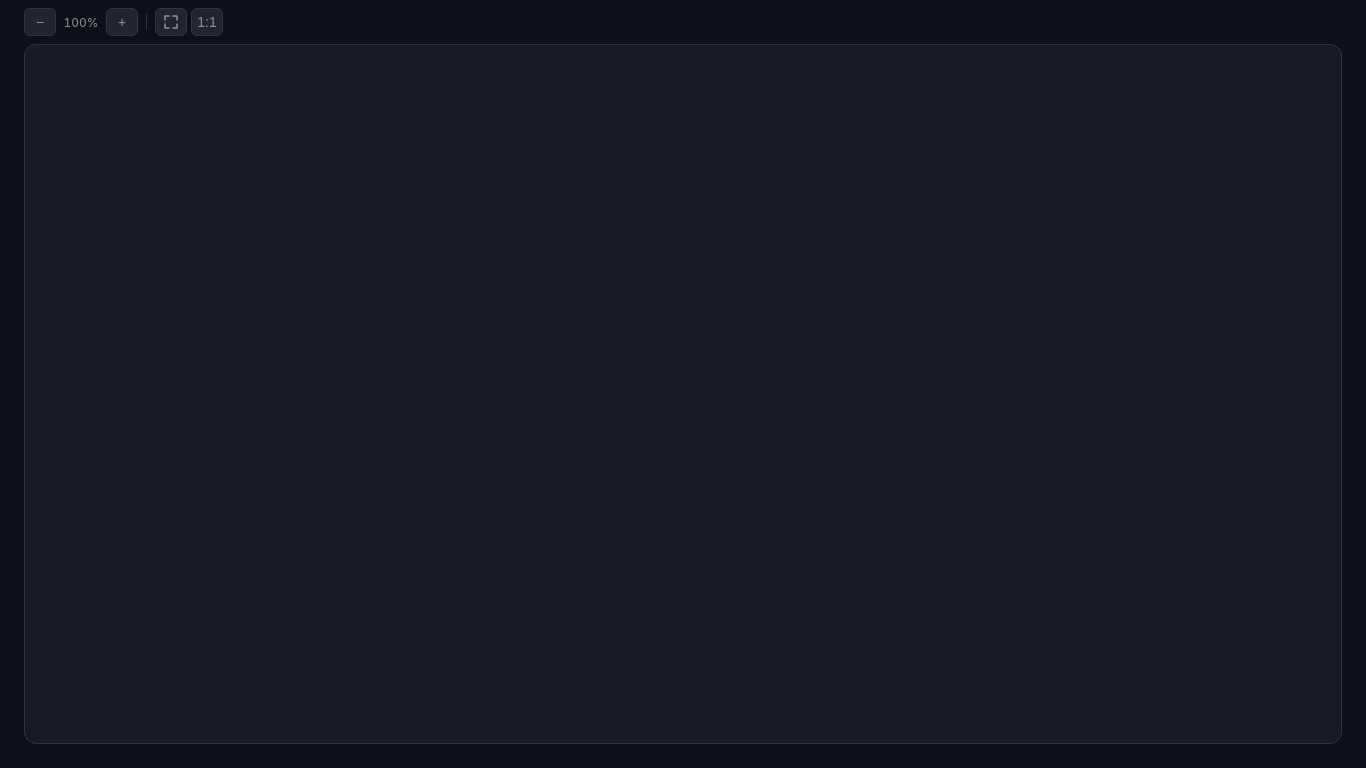
Scenario: Diagram › zoom out button decreases zoom level
Click the button titled "Zoom out": click(40, 22) [24,8,56,36]
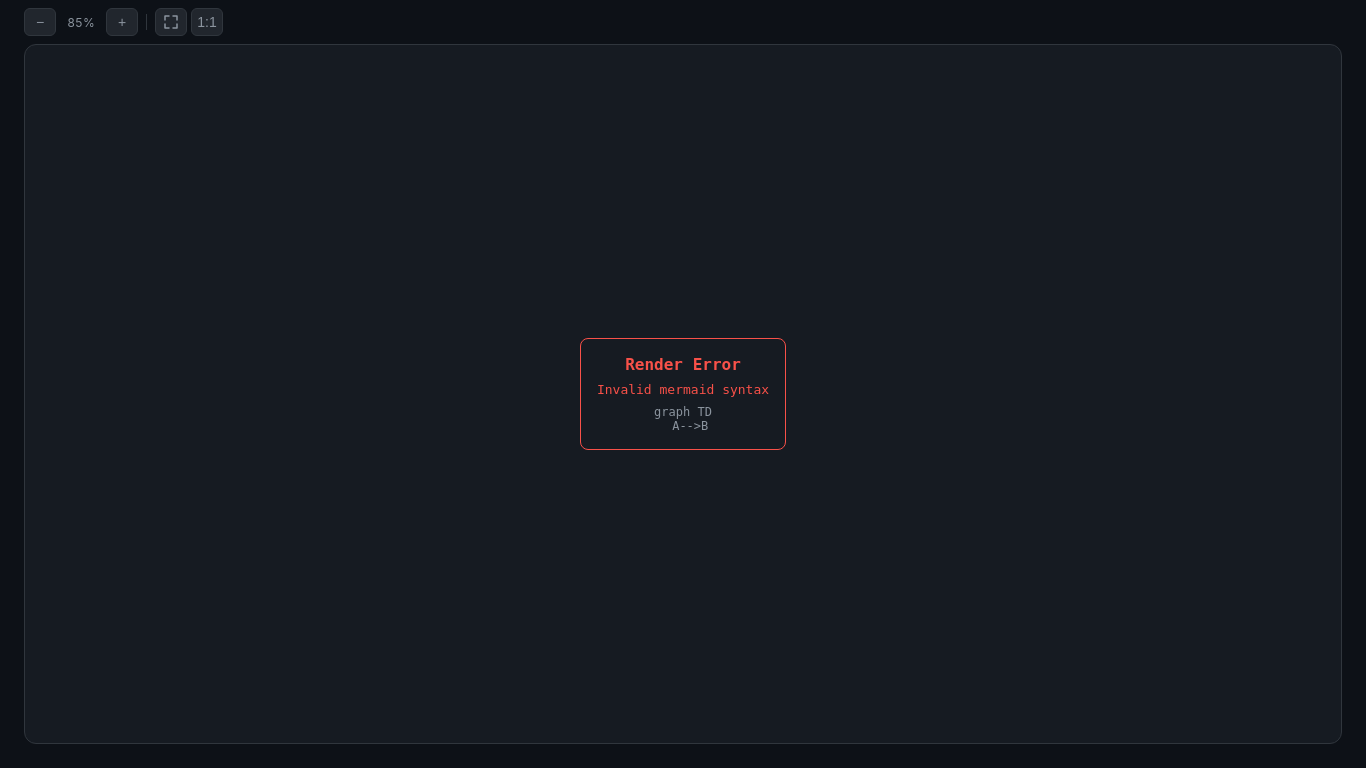
expect the text "85%" is shown: met, box [67,14,95,30]
